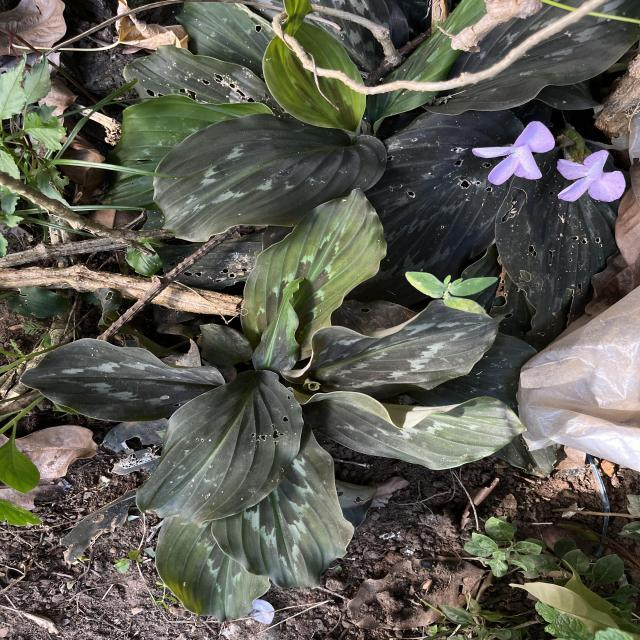Kaempferia galanga linn: (148, 109, 389, 244), (132, 365, 307, 531), (236, 182, 390, 362), (210, 424, 358, 594), (278, 296, 508, 400), (282, 382, 530, 472), (14, 336, 230, 426), (153, 516, 274, 628), (250, 273, 306, 373)
